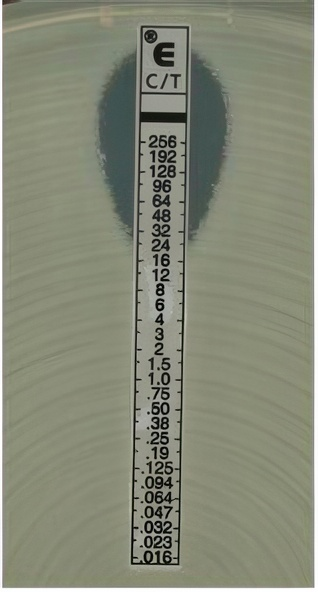line: (127, 22, 193, 568)
zone: (96, 48, 228, 243)
